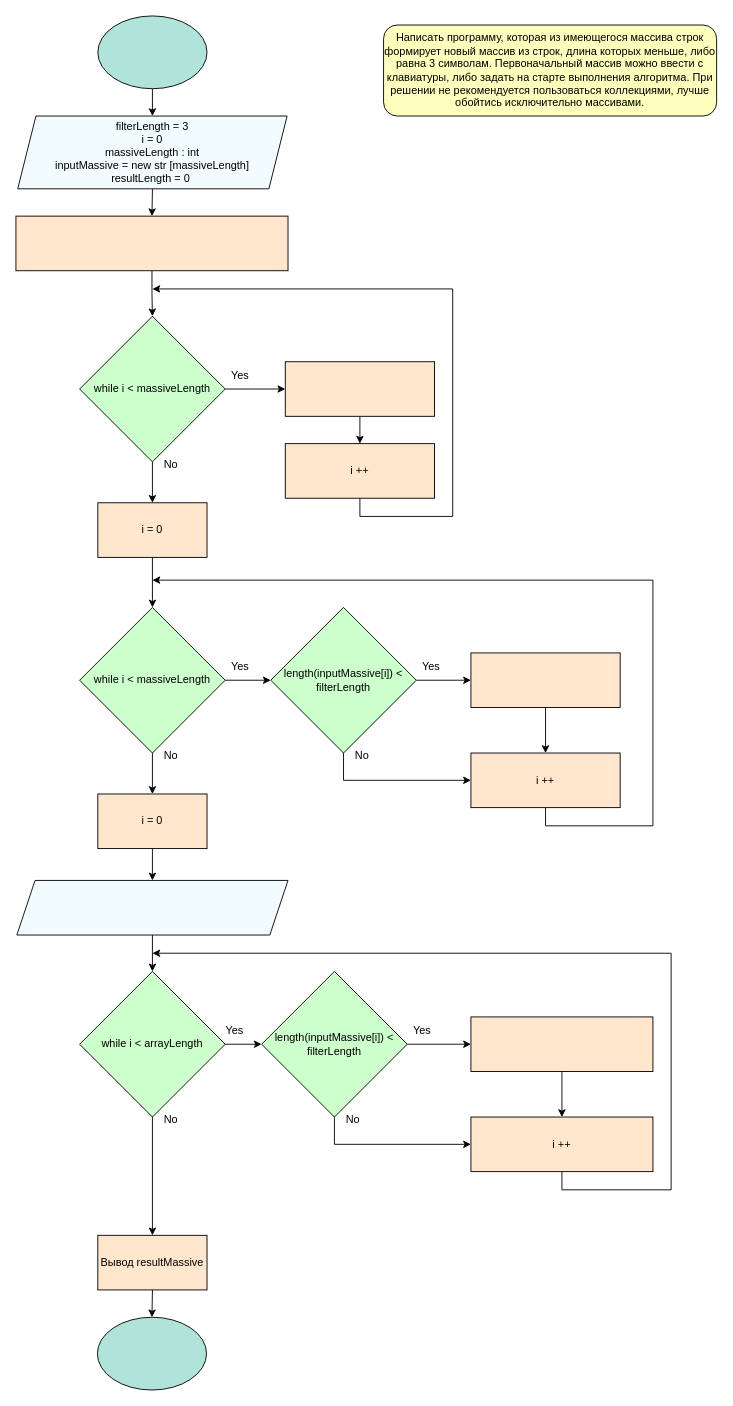
The diagram is 733 pixels wide and 1406 high, and some of its shapes have lost their labels. The centre of each missing label's shape, as x and y in pixels:
"Finish" goes at point (151, 1353).
"inputMassive[i] = Console.ReadLine()" goes at point (359, 388).
"resultLength ++" goes at point (545, 680).
"resultMassive = new str [resultLength] j = 0" goes at point (152, 907).
"resultMassive[j] = inputMassive[i] j ++" goes at point (561, 1044).
"Start" goes at point (152, 52).
"Ввод с клавиатуры длины massiveLength начального массива inputMassive" goes at point (151, 243).
